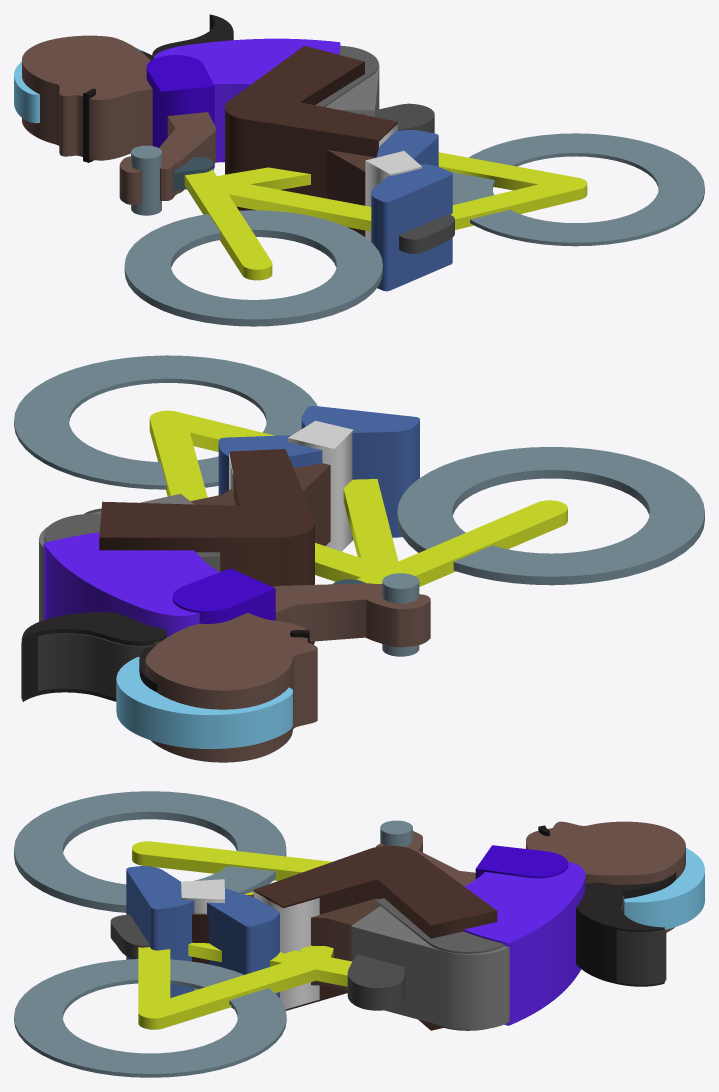
The model's file is emoji_u1f6b4_1f3ff_200d_2640.glb.
3 views of the same model, one above another, from view 1: azimuth 30°, elevation 25°; view 2: azimuth 150°, elevation 25°; view 3: azimuth 270°, elevation 25° (orthographic). The views are drawn at different scales.
Parts seen in each view (by area): view 1: emoji_u1f6b4_1f3ff_200d_2640; view 2: emoji_u1f6b4_1f3ff_200d_2640; view 3: emoji_u1f6b4_1f3ff_200d_2640.
Boxes of the visible parts, left/top/right/bottom form: emoji_u1f6b4_1f3ff_200d_2640: left=14, top=14, right=704, bottom=326; emoji_u1f6b4_1f3ff_200d_2640: left=14, top=355, right=704, bottom=762; emoji_u1f6b4_1f3ff_200d_2640: left=14, top=791, right=704, bottom=1077.
Bounding box in the file's own units: 0.0321 × 0.0056 × 0.0334.
